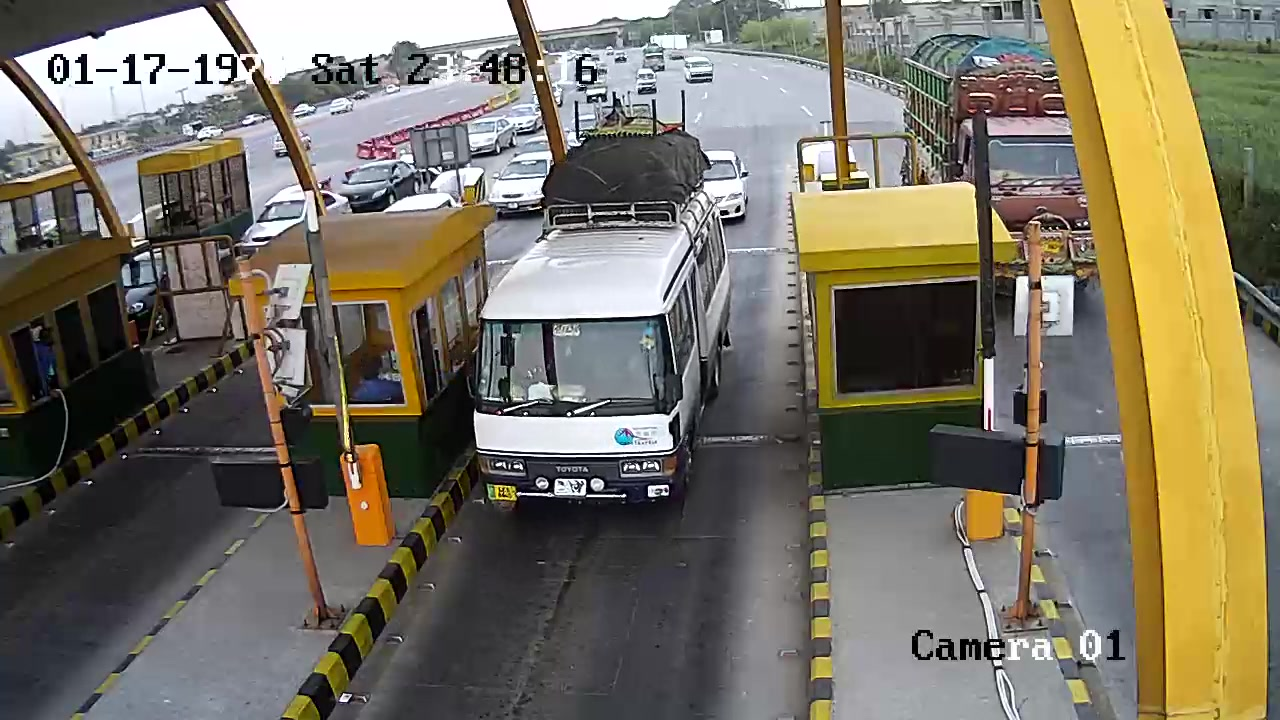F3: (471, 77, 748, 526)
